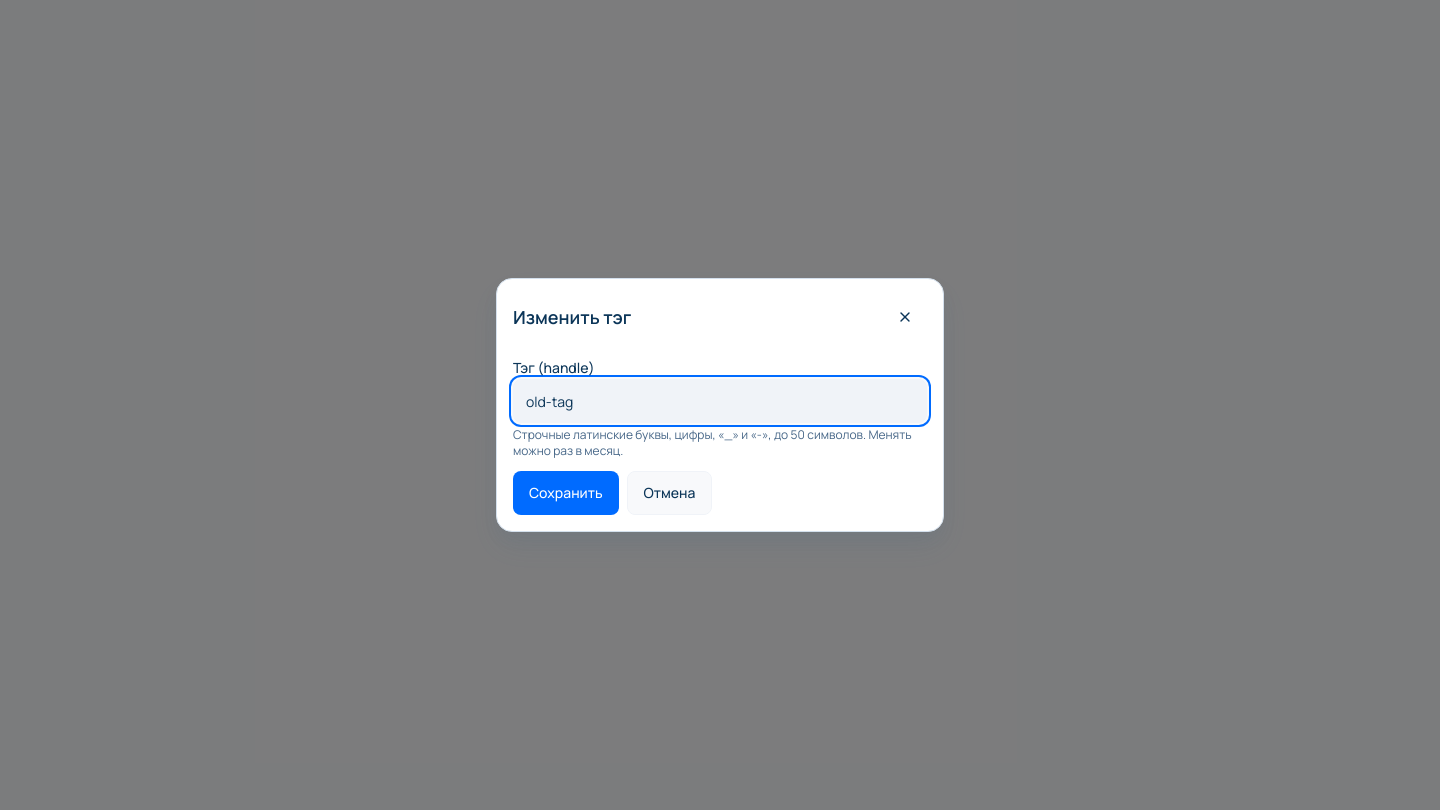
Test: EditIdentityModal › shows the server error and stays open on failure
Click the button "Сохранить" at (566, 493), box [513,471,619,515]
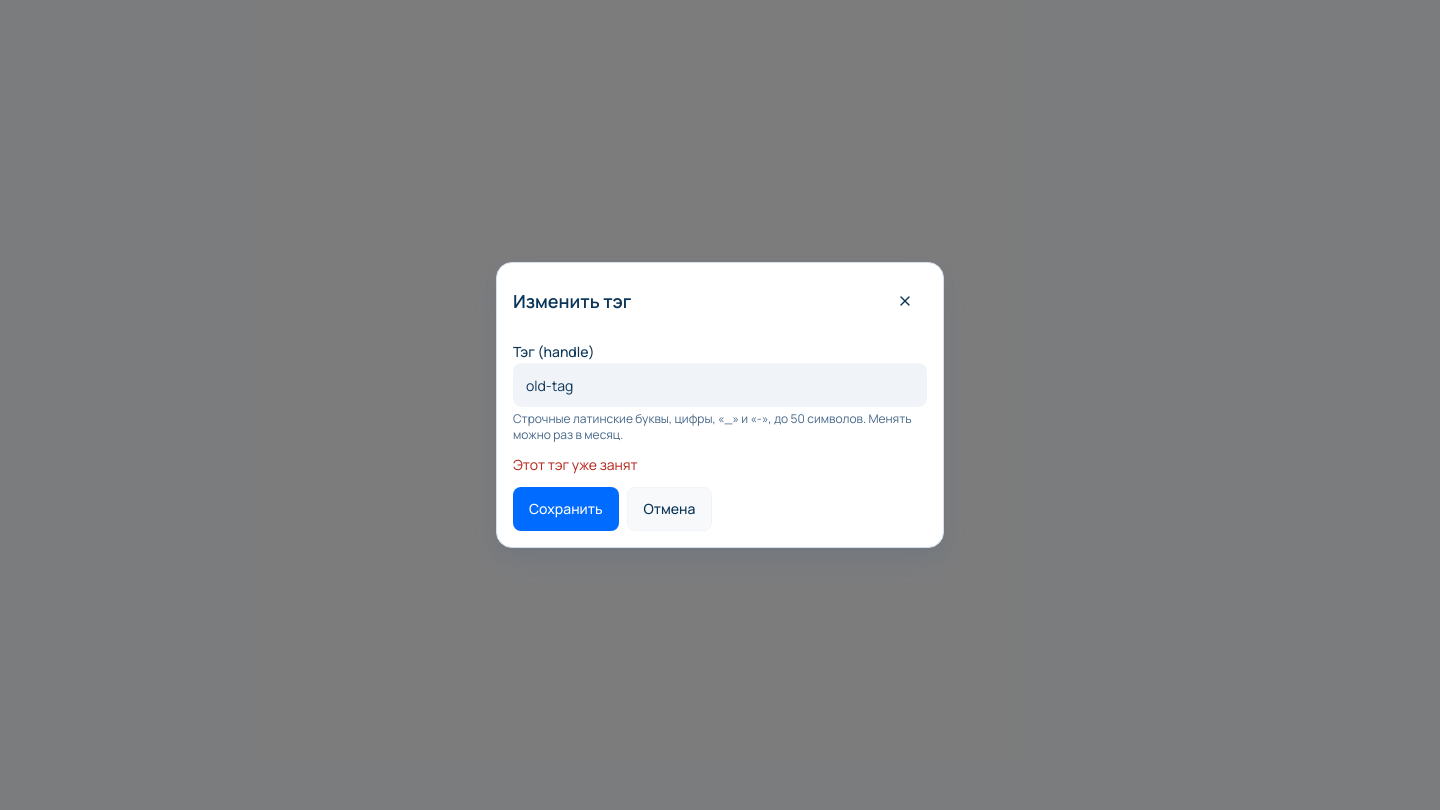
Expected: the message reads "Этот тэг уже занят", [513,455,638,474]
